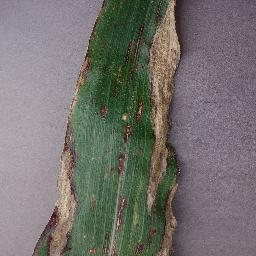Corn_Blight: (133, 0, 187, 255), (30, 125, 79, 256), (56, 34, 93, 125), (86, 191, 127, 256), (112, 110, 132, 179), (111, 40, 131, 107), (88, 0, 111, 33), (95, 102, 109, 118)
